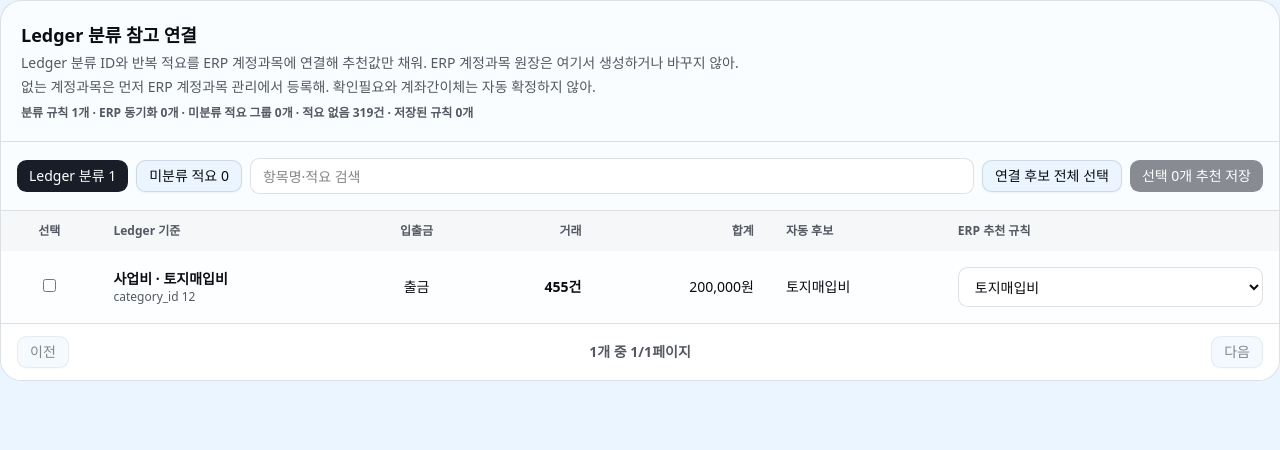
it: LedgerBankSubjectRuleWorkboardPanel › selects exact candidates and saves recommendations without confirming transactions
Click the button "연결 후보 전체 선택". click: x=1052, y=176
box: [982,160,1122,192]
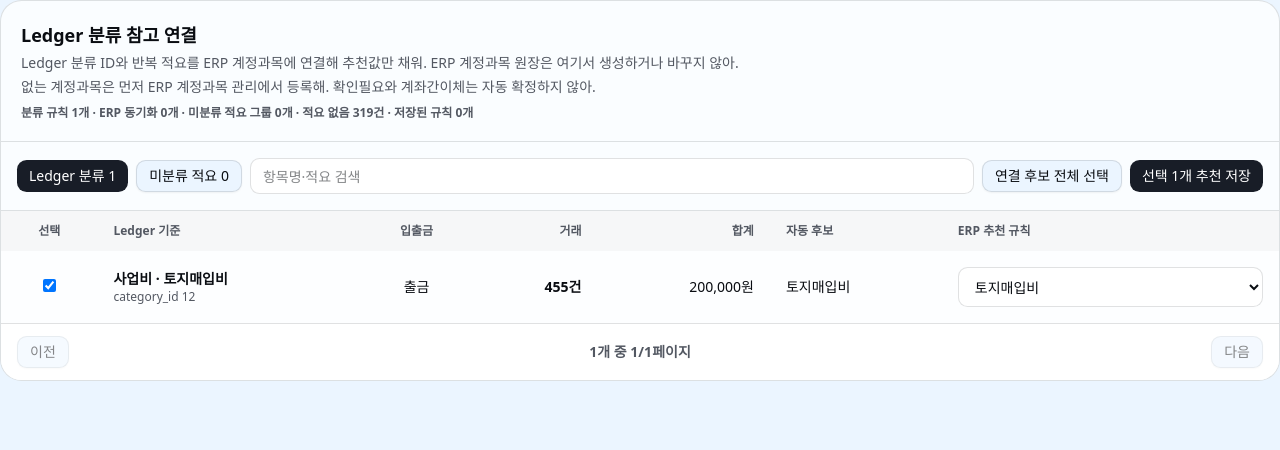
Click the button "선택 1개 추천 저장". click: x=1196, y=176
box: [1130,160,1263,192]
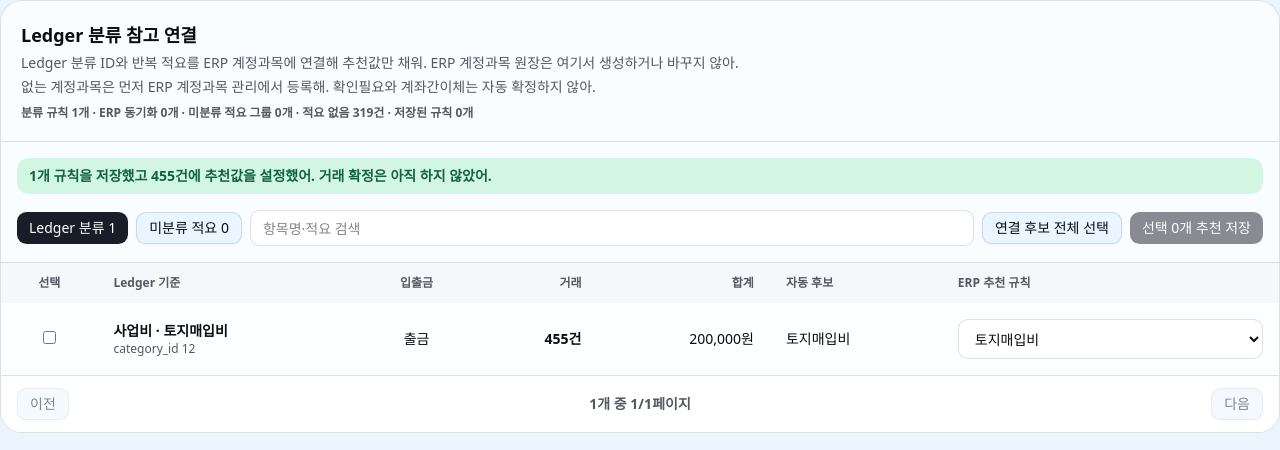
Check: the text "1개 규칙을 저장했고 455건에 추천값을 설정했어. 거래 확정은 아직 하지 않았어." is shown, box [17,158,1263,194]
